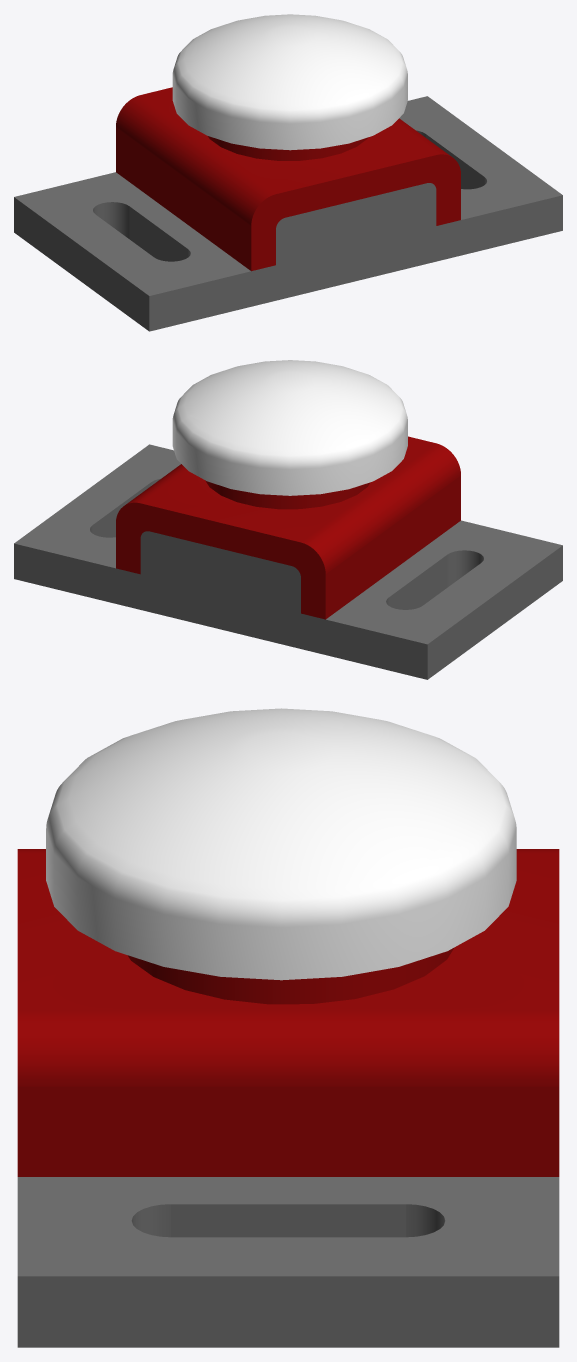
File: BumperSwitch.fbx
3 renders of one model, top to bottom at view 1: azimuth 30°, elevation 25°; view 2: azimuth 150°, elevation 25°; view 3: azimuth 270°, elevation 25°, orthographic. The views are drawn at different scales.
Visible parts, largest first — view 1: bump_switch_structure1, button1; view 2: bump_switch_structure1, button1; view 3: bump_switch_structure1, button1.
Boxes of the visible parts, x1=… form: bump_switch_structure1: x1=14, y1=87, x2=562, y2=331; button1: x1=172, y1=14, x2=407, y2=150; bump_switch_structure1: x1=14, y1=436, x2=562, y2=679; button1: x1=172, y1=360, x2=407, y2=495; bump_switch_structure1: x1=17, y1=849, x2=559, y2=1347; button1: x1=46, y1=708, x2=516, y2=980.
Size of the model in its own units: 2.09 by 0.9615 by 1.19.
